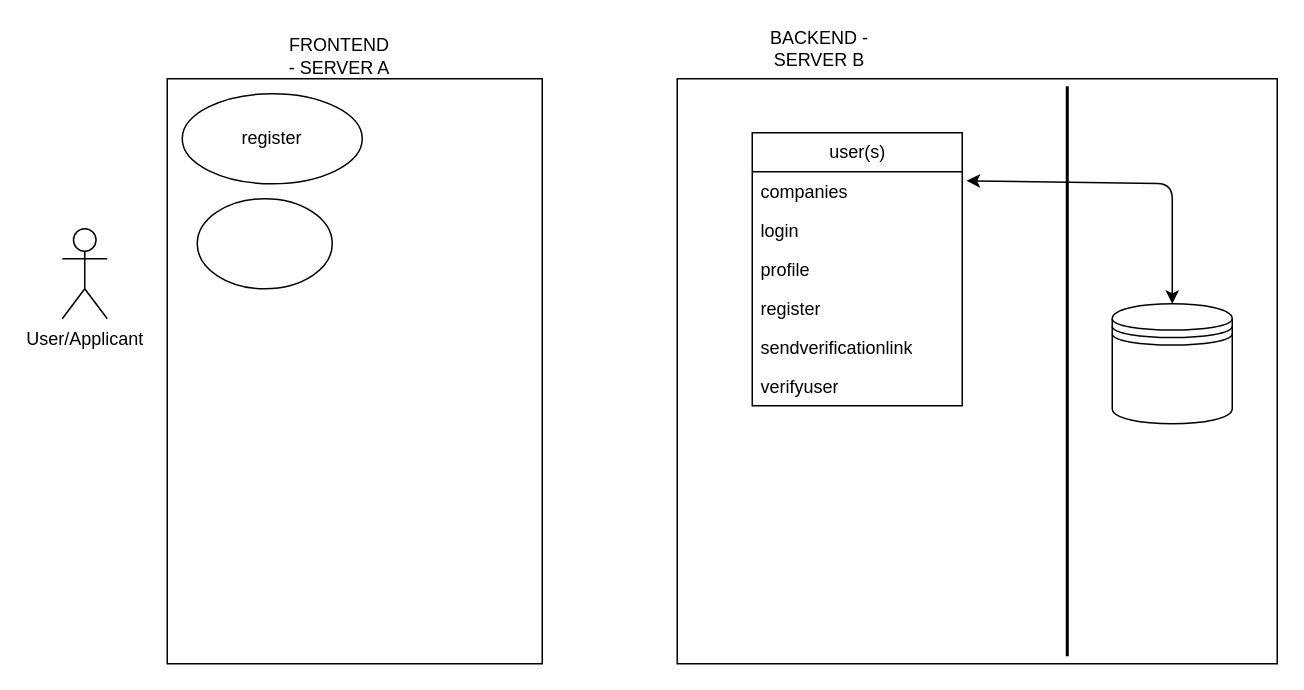
The diagram is 1304 pixels wide and 690 high, and some of its shapes have lost their labels. Each missing label, with the centre of its shape:
send account reset link to email: point 264,243
SQL DATABASE: point 1171,363
